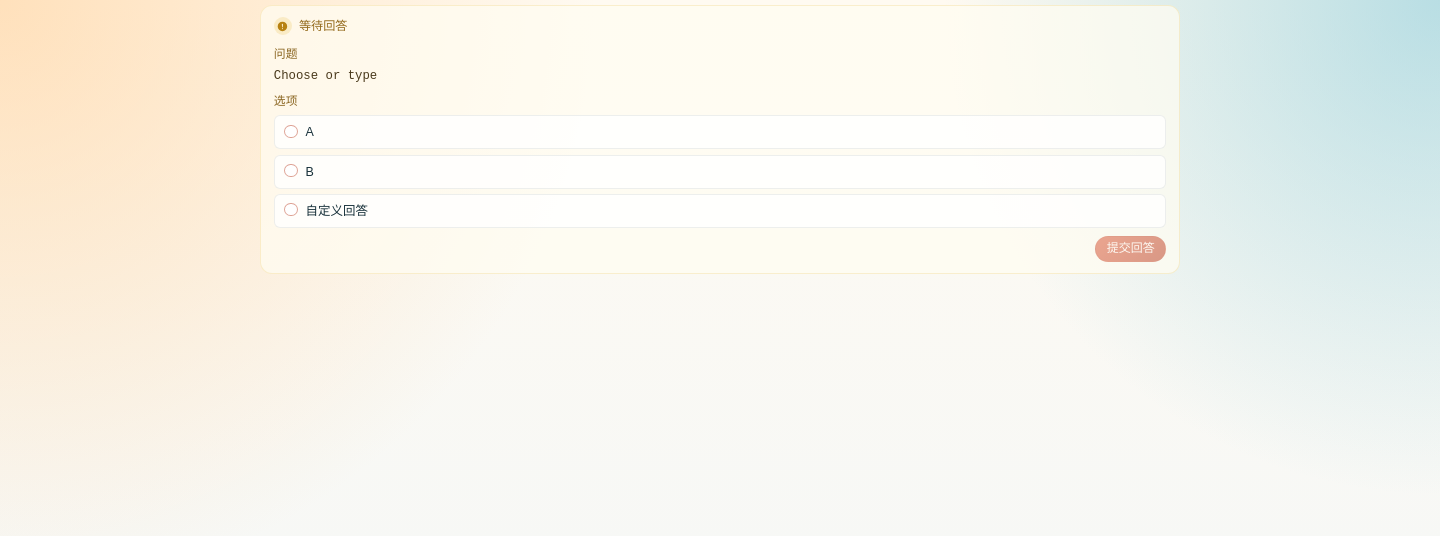
Scenario: MessageList › keeps the custom answer input hidden until that option is selected
Click the button "A".
click(291, 131)  # box x1=274 y1=115 x2=1166 y2=150
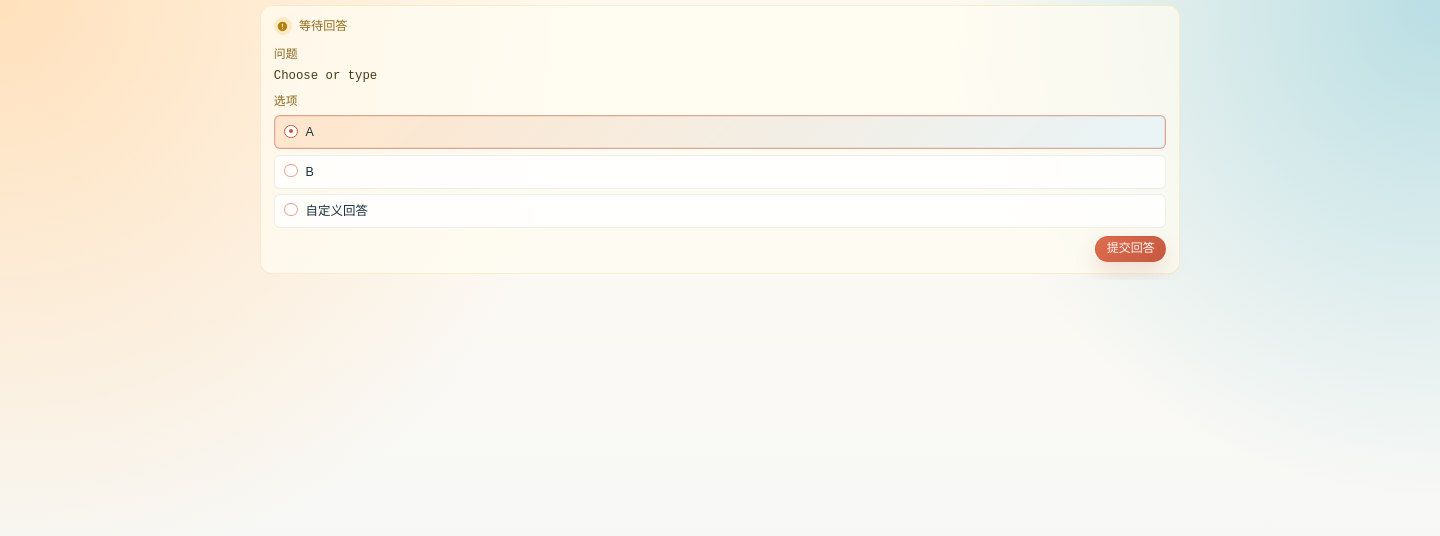
Click the button "自定义回答".
click(337, 211)  # box x1=274 y1=194 x2=1166 y2=228
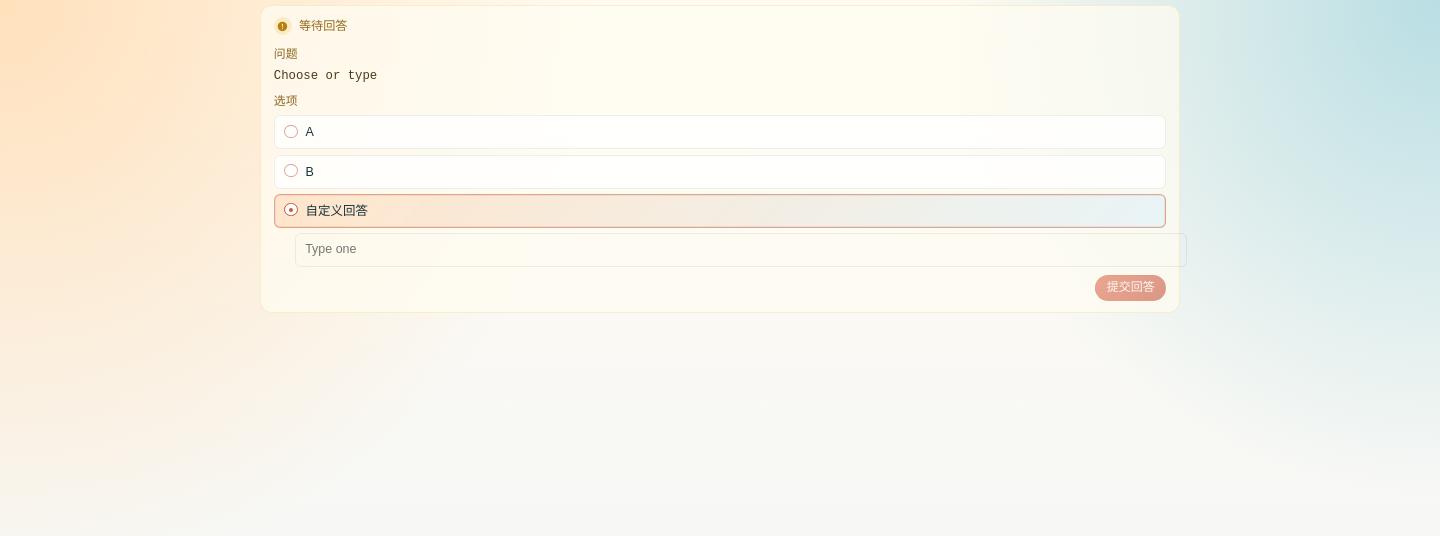
Result: the field with placeholder "Type one" is shown at x1=295 y1=233 x2=1187 y2=267
